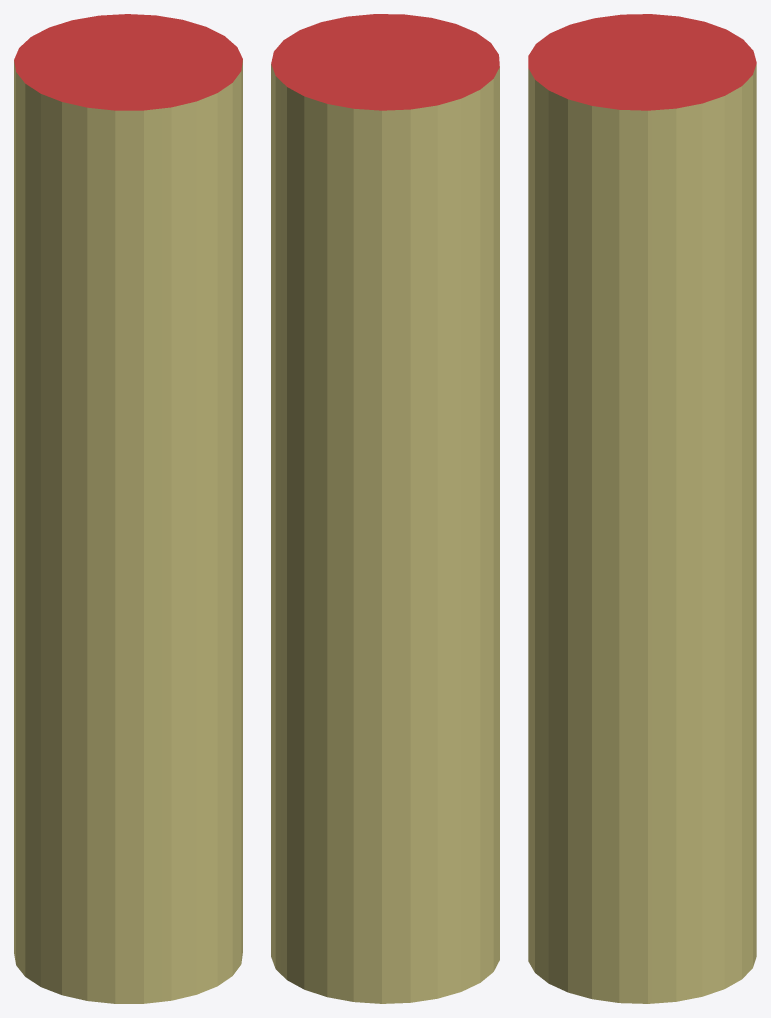
3 renders of one model, left to right at view 1: azimuth 30°, elevation 25°; view 2: azimuth 150°, elevation 25°; view 3: azimuth 270°, elevation 25°, orthographic.
Bounding box in the file's own units: 3.45 × 3.45 × 14.86.
